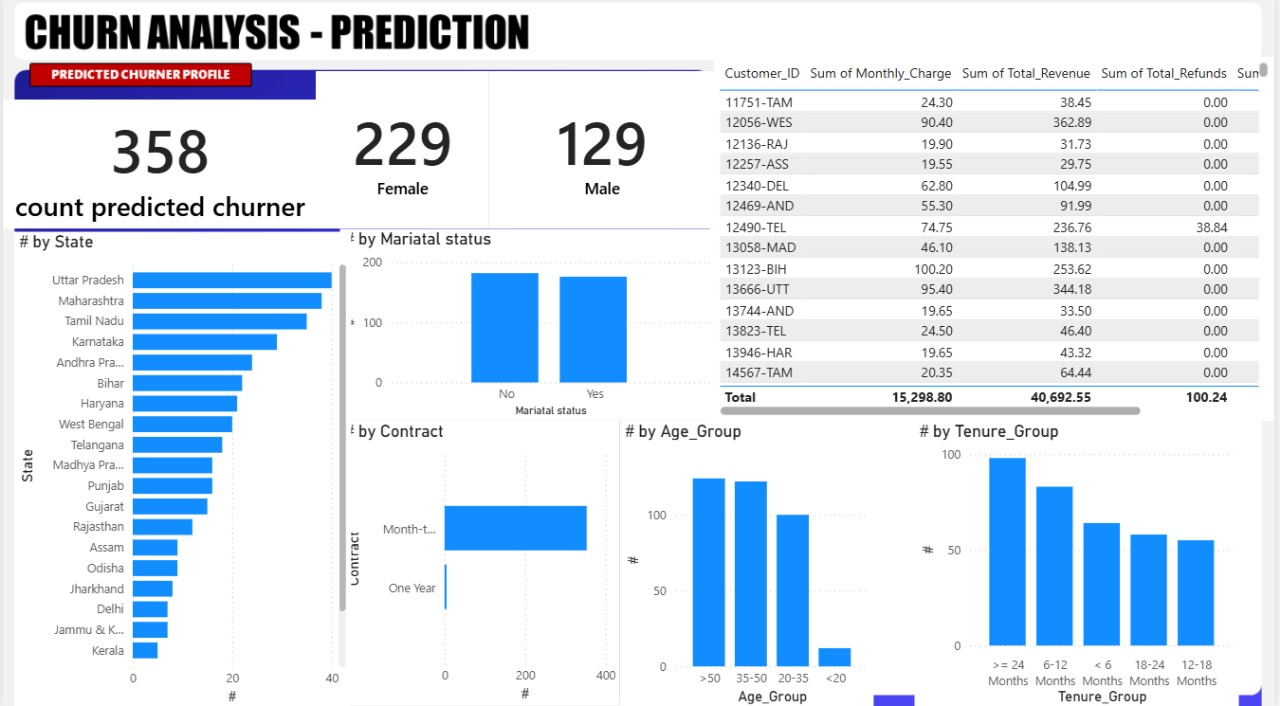

The dashboard page shown, as its layout file describes it:
{"tool":"powerbi","page":{"name":"prediction","canvas":[1280,720],"ordinal":1},"visuals":[{"type":"tableEx","fields":{"Values":["vw_JoinData_predictions.Customer_ID","Sum(vw_JoinData_predictions.Monthly_Charge)","Sum(vw_JoinData_predictions.Total_Revenue)","Sum(vw_JoinData_predictions.Total_Refunds)","Sum(vw_JoinData_predictions.Number_of_Referrals)"]},"box":[716.6,63.4,562.8,366.2],"z":0},{"type":"card","fields":{"Values":["Table_measures.count predicted churner"]},"box":[0,106.2,315.5,130],"z":1000},{"type":"card","fields":{"Values":["Table_measures.count predicted churner"]},"box":[315.5,77.7,174.4,158.5],"z":1001},{"type":"card","fields":{"Values":["Table_measures.count predicted churner"]},"box":[489.9,77.7,226.7,158.5],"z":1002},{"type":"clusteredColumnChart","fields":{"Category":["mapping_AgeGrp.Age_Group"],"Y":["CountNonNull(vw_JoinData_predictions.Customer_ID)"]},"box":[621.5,429.7,255.3,290.1],"z":1003},{"type":"clusteredColumnChart","fields":{"Category":["vw_JoinData_predictions.Married"],"Y":["CountNonNull(vw_JoinData_predictions.Customer_ID)"]},"box":[339.3,236.2,377.3,193.4],"z":1004},{"type":"clusteredColumnChart","fields":{"Category":["Mapping_TenureGrp.Tenure_Group"],"Y":["CountNonNull(vw_JoinData_predictions.Customer_ID)"]},"box":[918,429.7,326.6,290.1],"z":1005},{"type":"clusteredBarChart","fields":{"Category":["vw_JoinData_predictions.Contract"],"Y":["CountNonNull(vw_JoinData_predictions.Customer_ID)"]},"box":[339.3,429.7,282.2,287],"z":1006},{"type":"clusteredBarChart","fields":{"Category":["vw_JoinData_predictions.State"],"Y":["CountNonNull(vw_JoinData_predictions.Customer_ID)"]},"box":[11.1,239.4,339.3,480.4],"z":1007}]}

Visuals, with their boxes in screenshot pixels (x1, y1, x2, y2), scaled from the page's 1280x720 canvas onto the 1280x706 screenshot:
tableEx - vw_JoinData_predictions.Customer_ID x Sum(vw_JoinData_predictions.Monthly_Charge): (left=717, top=62, right=1279, bottom=421)
card - Table_measures.count predicted churner: (left=0, top=104, right=316, bottom=232)
card - Table_measures.count predicted churner: (left=316, top=76, right=490, bottom=232)
card - Table_measures.count predicted churner: (left=490, top=76, right=717, bottom=232)
clusteredColumnChart - mapping_AgeGrp.Age_Group x CountNonNull(vw_JoinData_predictions.Customer_ID): (left=622, top=421, right=877, bottom=705)
clusteredColumnChart - vw_JoinData_predictions.Married x CountNonNull(vw_JoinData_predictions.Customer_ID): (left=339, top=232, right=717, bottom=421)
clusteredColumnChart - Mapping_TenureGrp.Tenure_Group x CountNonNull(vw_JoinData_predictions.Customer_ID): (left=918, top=421, right=1245, bottom=705)
clusteredBarChart - vw_JoinData_predictions.Contract x CountNonNull(vw_JoinData_predictions.Customer_ID): (left=339, top=421, right=622, bottom=703)
clusteredBarChart - vw_JoinData_predictions.State x CountNonNull(vw_JoinData_predictions.Customer_ID): (left=11, top=235, right=350, bottom=705)
